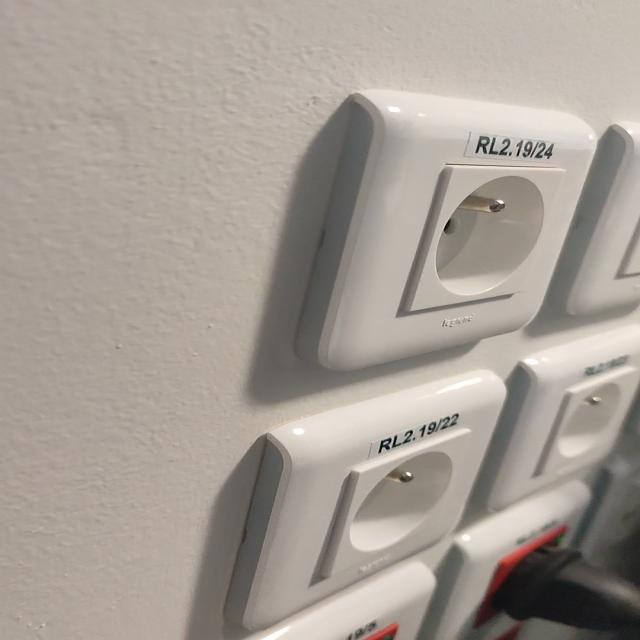house plug: (400, 165, 563, 312), (324, 431, 458, 579), (532, 366, 628, 480)
